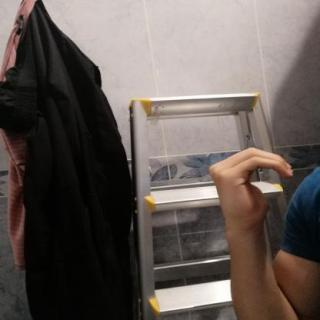HAA: (198, 140, 302, 235)
